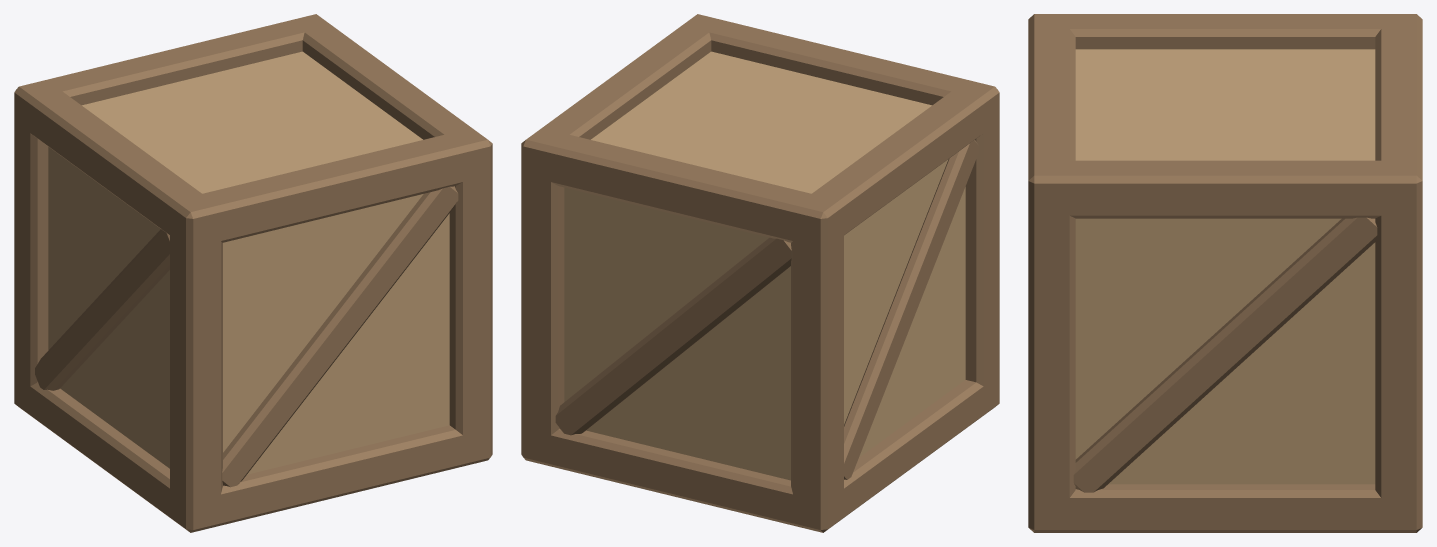
The model's file is Crate.fbx.
3 views of the same model, side by side, from view 1: azimuth 30°, elevation 25°; view 2: azimuth 150°, elevation 25°; view 3: azimuth 270°, elevation 25° (orthographic). The views are drawn at different scales.
Parts seen in each view (by area): view 1: Crate; view 2: Crate; view 3: Crate.
Part boxes in pixels (x1,y1,x2,y2): Crate: (14, 14, 492, 532); Crate: (521, 14, 999, 532); Crate: (1028, 14, 1422, 532).
Bounding box in the file's own units: 1 × 1 × 1.
